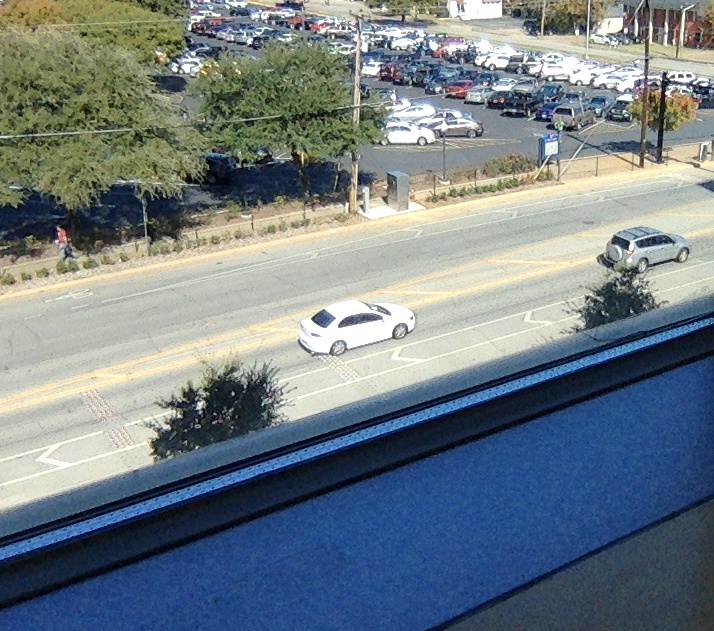car: (300, 300, 414, 355)
